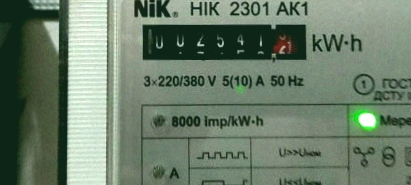0: (152, 28, 165, 49), (173, 26, 185, 47)
1: (254, 25, 266, 48)
2: (193, 25, 207, 48)
4: (234, 25, 246, 46)
5: (213, 26, 226, 49)
6: (276, 41, 287, 53)
screen: (129, 12, 319, 68)
